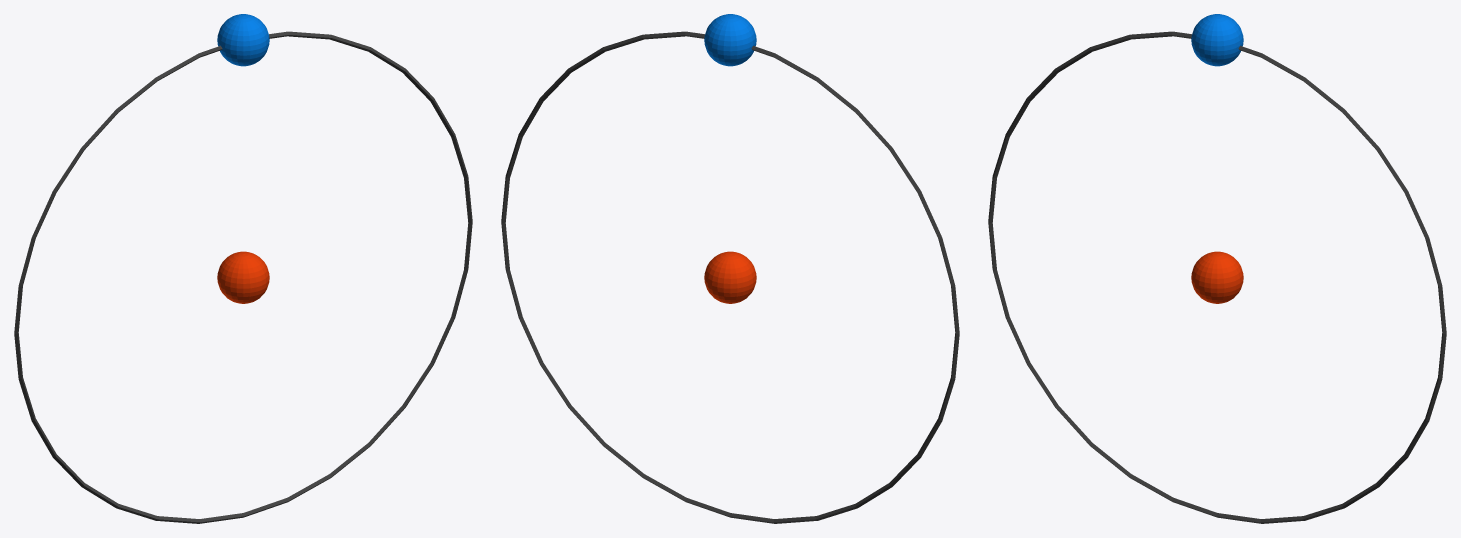
3 views of the same model, side by side, from view 1: azimuth 30°, elevation 25°; view 2: azimuth 150°, elevation 25°; view 3: azimuth 330°, elevation 25° (orthographic).
Visible parts, largest first — view 1: Orbit1; view 2: Orbit1; view 3: Orbit1.
Part boxes in pixels (x1,y1,x2,y2): Orbit1: (14, 14, 472, 523); Orbit1: (501, 14, 959, 523); Orbit1: (988, 14, 1446, 523).
Bounding box in the file's own units: 202 × 211 × 20.
